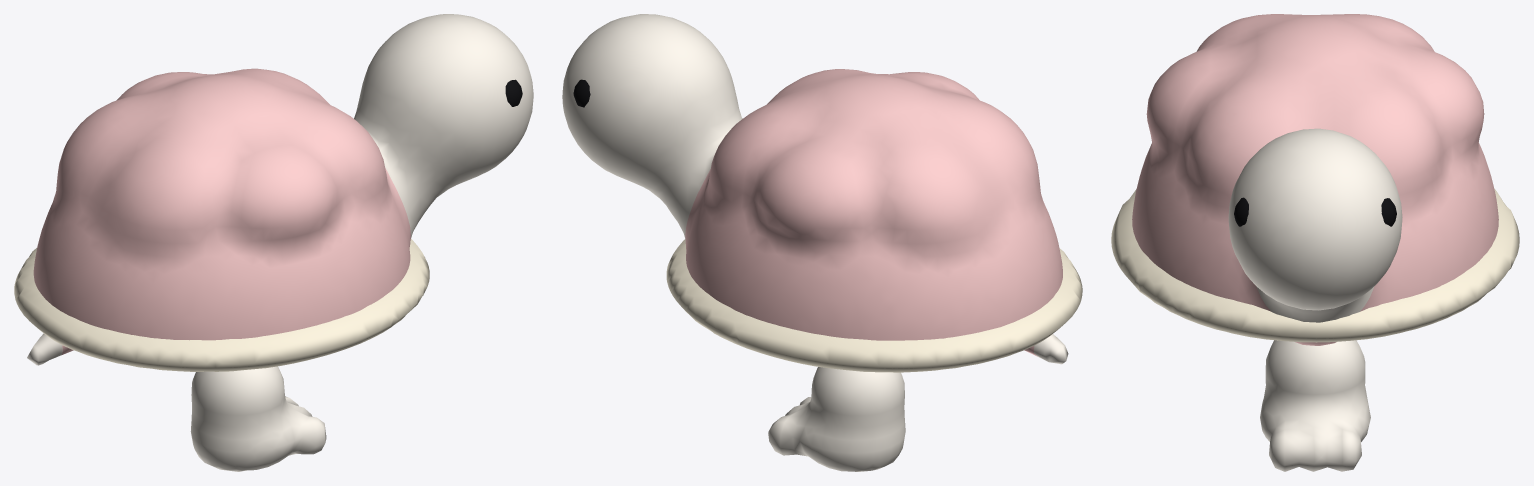
The model's file is turtle_baby.glb.
3 views of the same model, side by side, from view 1: azimuth 30°, elevation 25°; view 2: azimuth 150°, elevation 25°; view 3: azimuth 270°, elevation 25° (orthographic). The views are drawn at different scales.
Visible parts, largest first — view 1: body, horn, leg; view 2: body, horn, leg; view 3: body, horn, leg, eye.
Boxes of the visible parts, <box> form: body: <box>27,14,533,365</box>; horn: <box>14,239,429,371</box>; leg: <box>190,366,326,471</box>; body: <box>562,14,1068,364</box>; horn: <box>666,239,1082,372</box>; leg: <box>768,367,905,471</box>; body: <box>1132,14,1498,345</box>; horn: <box>1111,188,1519,342</box>; leg: <box>1260,340,1370,471</box>; eye: <box>1234,197,1396,226</box>.
Bounding box in the file's own units: 1.82 × 1.36 × 1.22.
